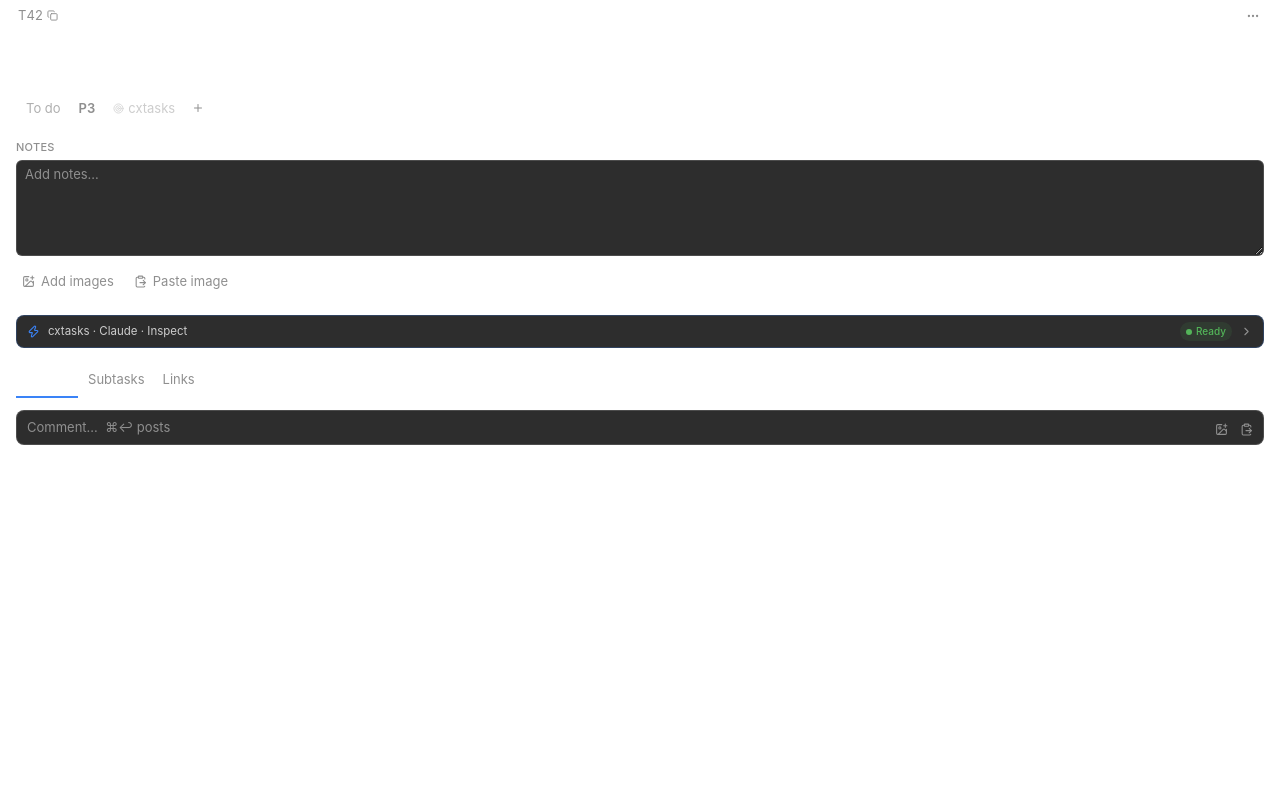
Scenario: collapsing the console › hides the rail and the launch action, and states the plan instead
The width and height of the screenshot is (1280, 800).
Click the button titled "Show the launch console" at (118, 331), box [17,316,1263,347]
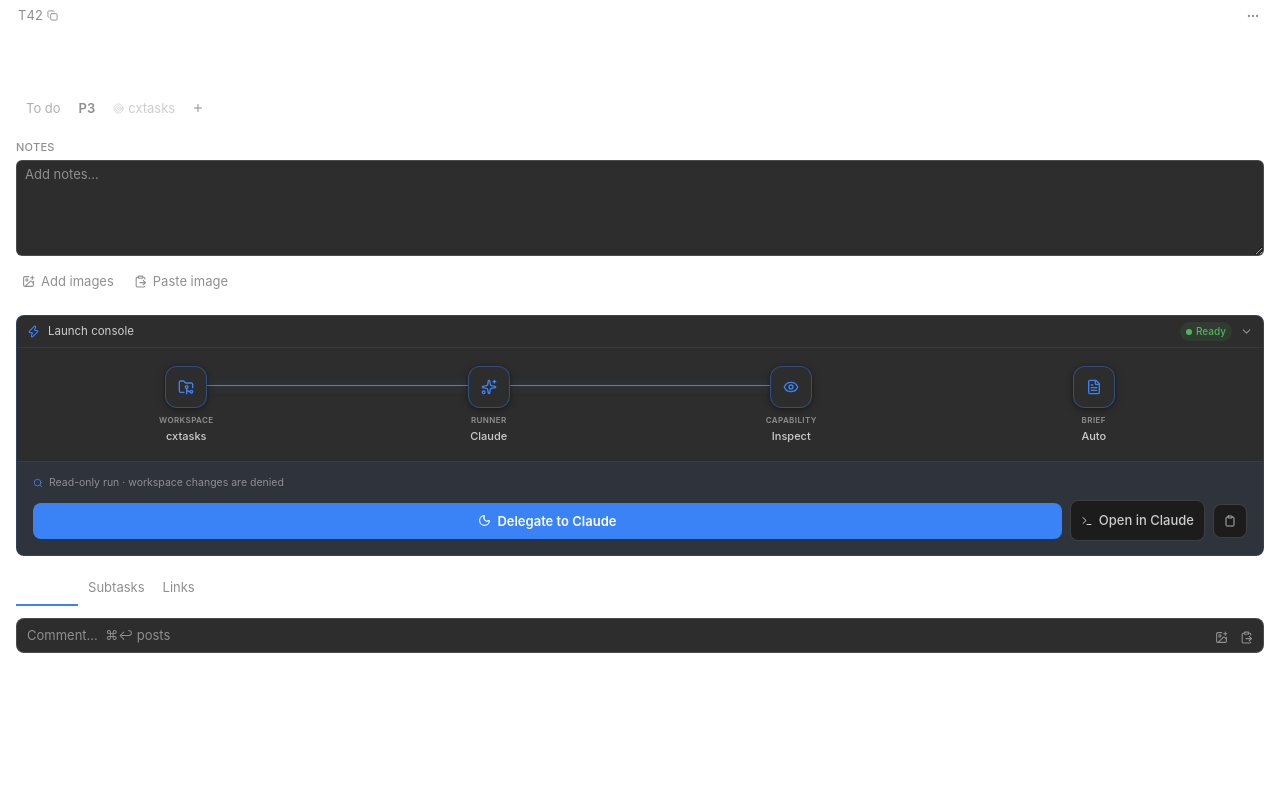
Click the button titled "Collapse the launch console" at (91, 331), box [17,316,1263,348]
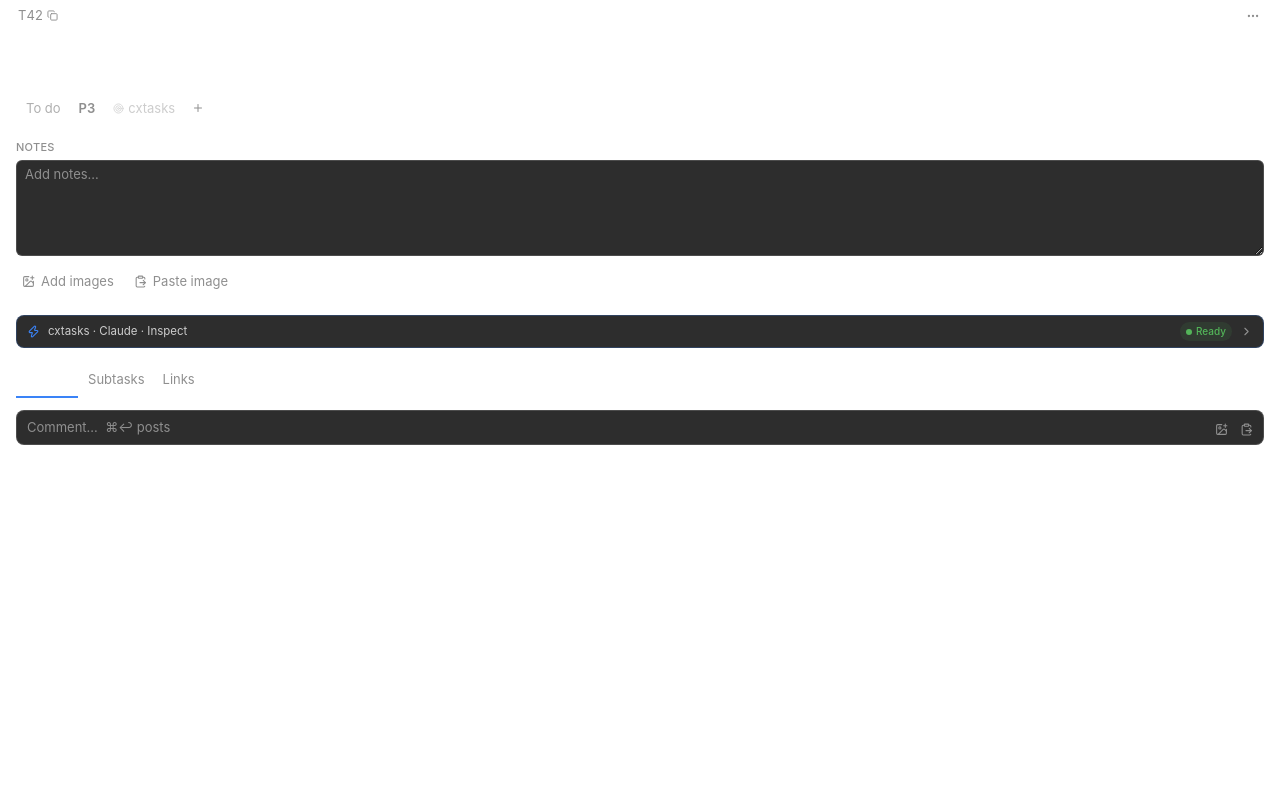
Check: the button "Delegate to Claude" is gone
Check: the button "Capability" is gone
Check: the text "cxtasks · Claude · Inspect" is shown, box [48,324,187,338]
